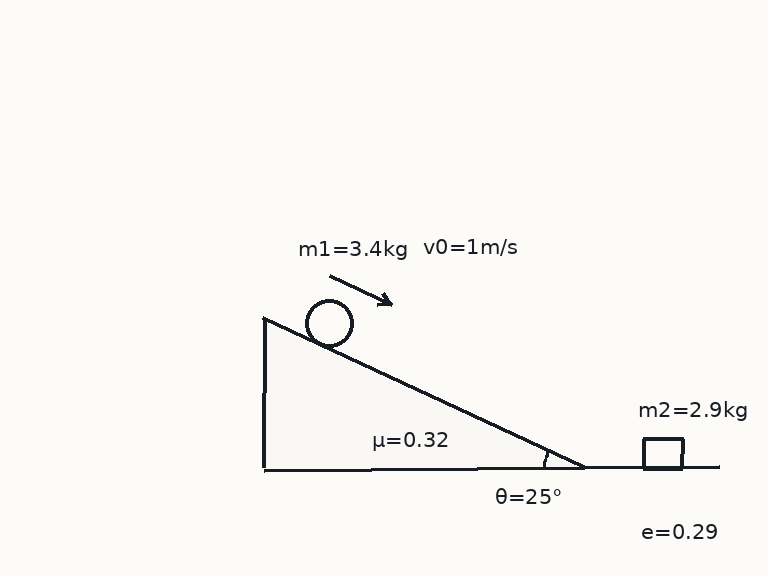ball: (303, 297, 355, 349)
block: (641, 437, 685, 470)
ramp: (261, 316, 586, 470)
